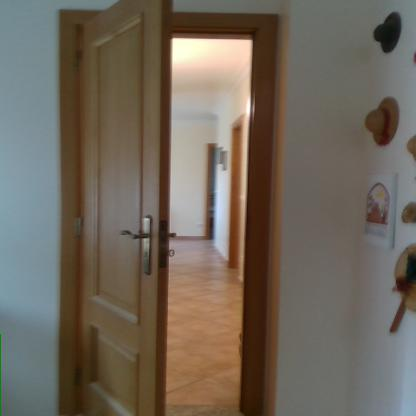semi: (52, 0, 301, 415)
